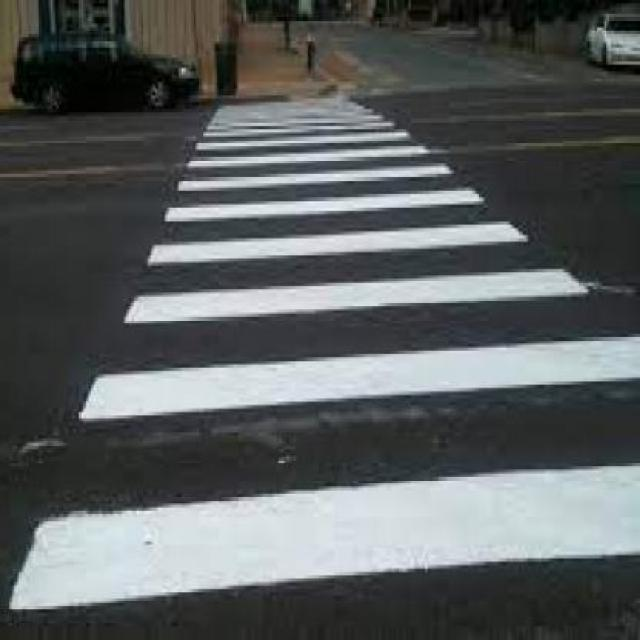Pedestrian crosswalk: (2, 84, 640, 637)
